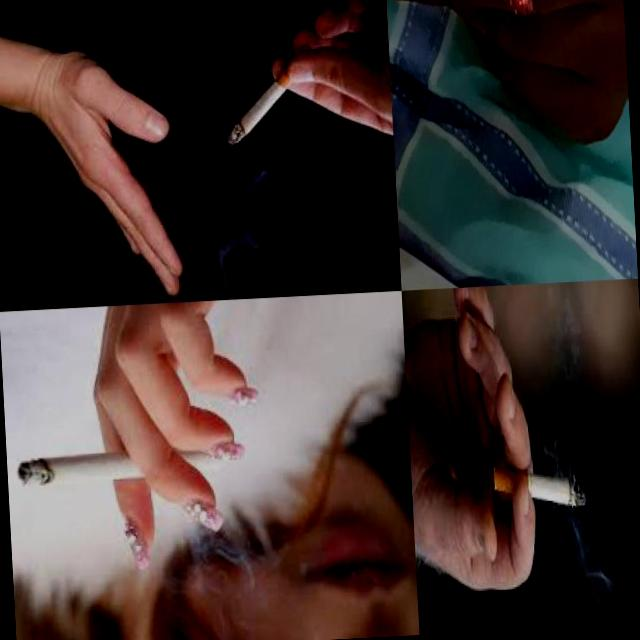smoke: (8, 301, 265, 577), (400, 285, 603, 597), (219, 0, 392, 157)
